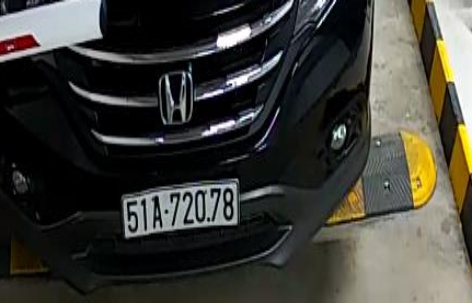plate: (116, 181, 246, 236)
